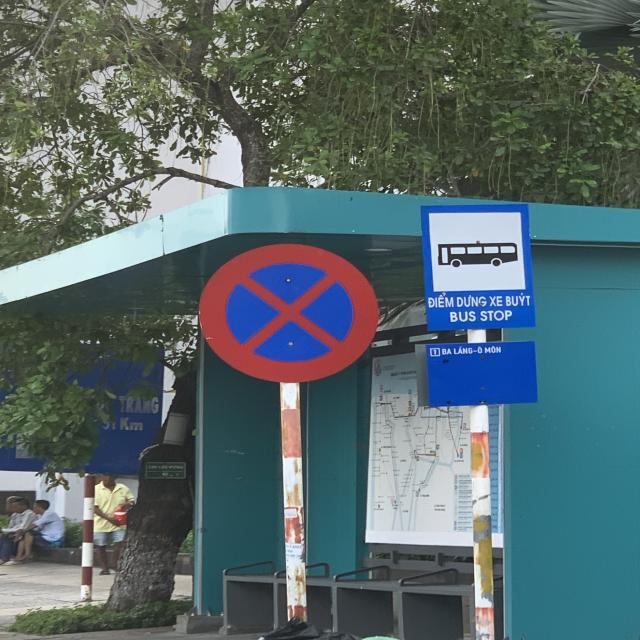Cam_Dung_Va_Dau_Xe: (198, 244, 380, 379)
